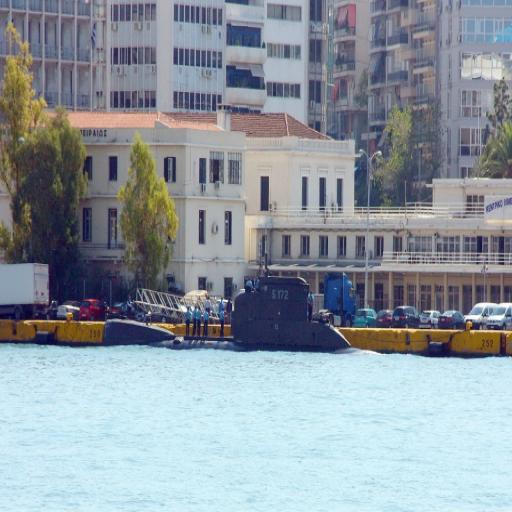submarine: (149, 276, 386, 357)
